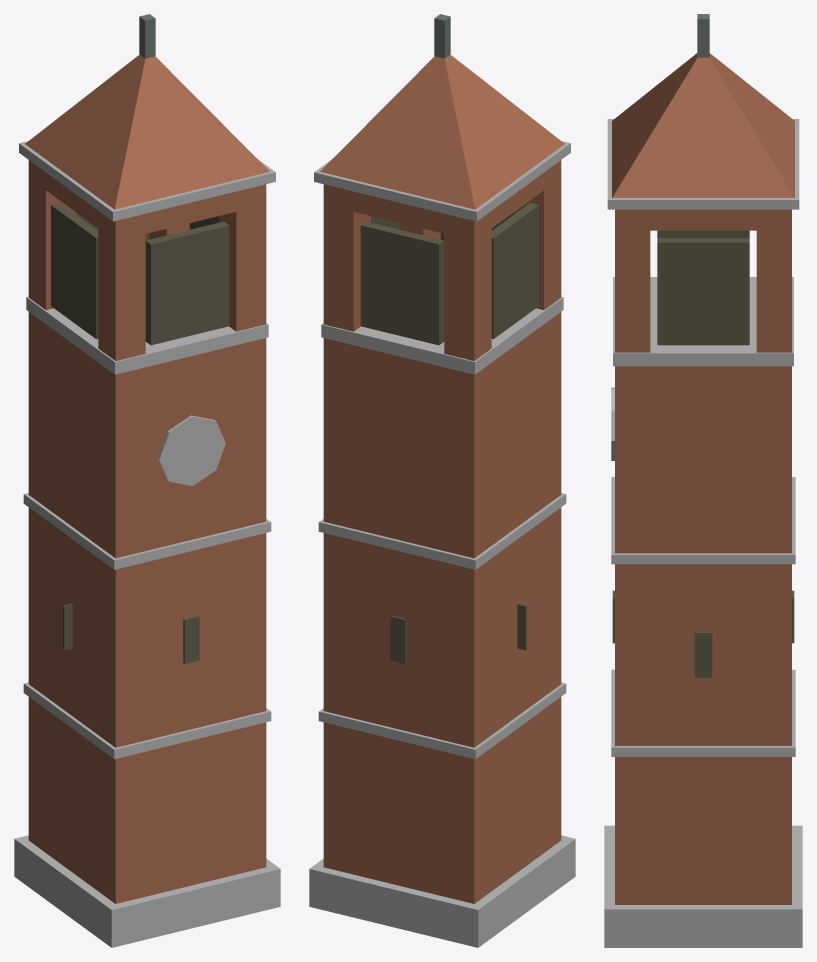
File: SM_Campanario_v2_Reloj_LOD1.fbx
3 renders of one model, left to right at view 1: azimuth 30°, elevation 25°; view 2: azimuth 150°, elevation 25°; view 3: azimuth 270°, elevation 25°, orthographic.
Visible parts, largest first — view 1: SM_pueblo_valenciano_v22_LOD1; view 2: SM_pueblo_valenciano_v22_LOD1; view 3: SM_pueblo_valenciano_v22_LOD1.
Part boxes in pixels (x1=…): SM_pueblo_valenciano_v22_LOD1: x1=14, y1=14, x2=280, y2=947; SM_pueblo_valenciano_v22_LOD1: x1=309, y1=14, x2=575, y2=947; SM_pueblo_valenciano_v22_LOD1: x1=604, y1=14, x2=802, y2=947.
Size of the model in its own units: 5.6 by 27.7 by 5.6.
